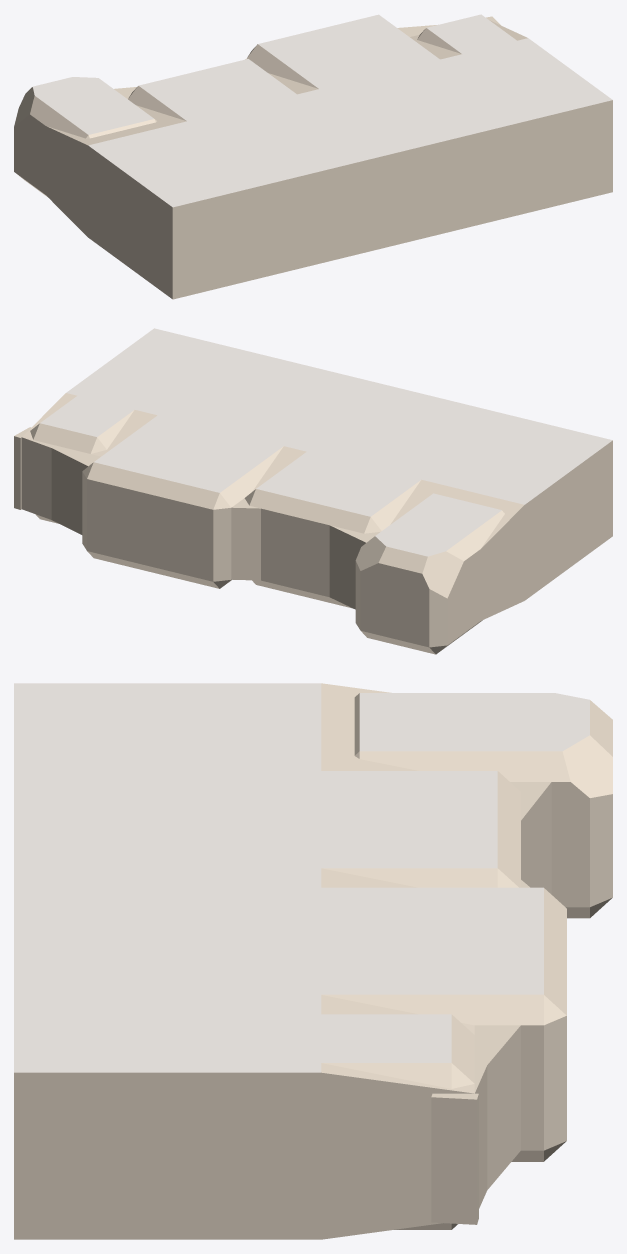
Rendered from Floor_Ruined_Straight_1.glb.
3 views of the same model, one above another, from view 1: azimuth 30°, elevation 25°; view 2: azimuth 150°, elevation 25°; view 3: azimuth 270°, elevation 25° (orthographic). The views are drawn at different scales.
Visible parts, largest first — view 1: Floor_Ruined_Straight_1; view 2: Floor_Ruined_Straight_1; view 3: Floor_Ruined_Straight_1.
Part boxes in pixels (x1,y1,x2,y2): Floor_Ruined_Straight_1: (14,14,612,299); Floor_Ruined_Straight_1: (14,328,612,654); Floor_Ruined_Straight_1: (14,683,612,1239).
Bounding box in the file's own units: 0.457 × 0.09 × 0.2925.
